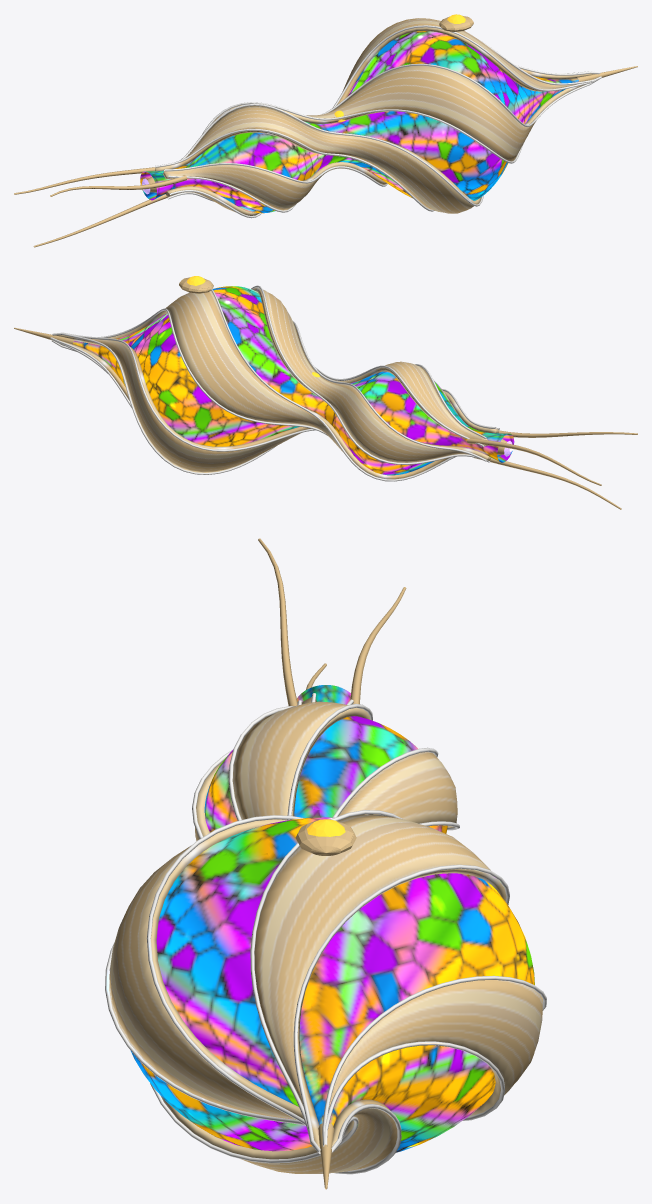
File: ithar_GV2.gltf
3 renders of one model, top to bottom at view 1: azimuth 30°, elevation 25°; view 2: azimuth 150°, elevation 25°; view 3: azimuth 270°, elevation 25°, orthographic. The views are drawn at different scales.
Parts seen in each view (by area): view 1: ithar_GV2; view 2: ithar_GV2; view 3: ithar_GV2.
Part boxes in pixels (left/top/right/bottom): ithar_GV2: left=14, top=15, right=637, bottom=247; ithar_GV2: left=14, top=277, right=637, bottom=509; ithar_GV2: left=105, top=538, right=546, bottom=1189.
Bounding box in the file's own units: 1 × 0.29 × 0.3168.
5 materials, 2 textured.
